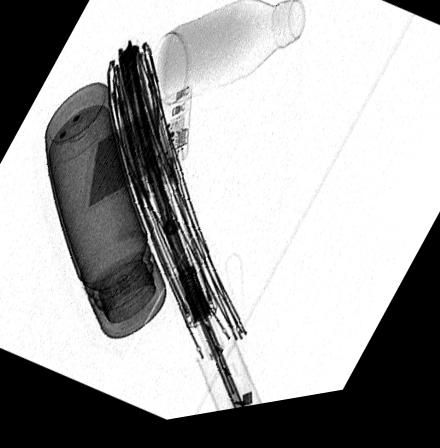Powerbank: (81, 92, 194, 215)
